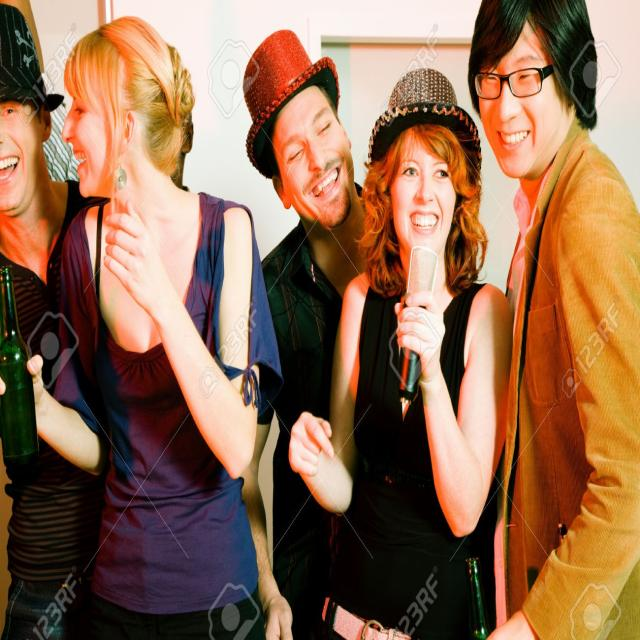body: (0, 8, 282, 639), (285, 60, 515, 639), (463, 0, 639, 639), (0, 2, 176, 639), (241, 29, 367, 639)
